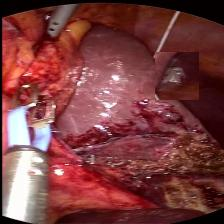Grasper: (2, 80, 71, 182)
Irrigator: (40, 10, 72, 38)
Specimen Bag: (154, 52, 198, 100)
